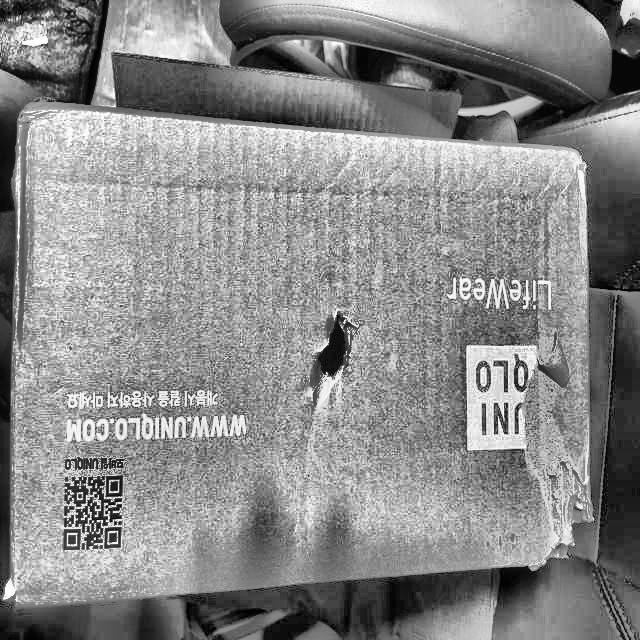box: (11, 53, 599, 613)
hole: (313, 307, 359, 389)
